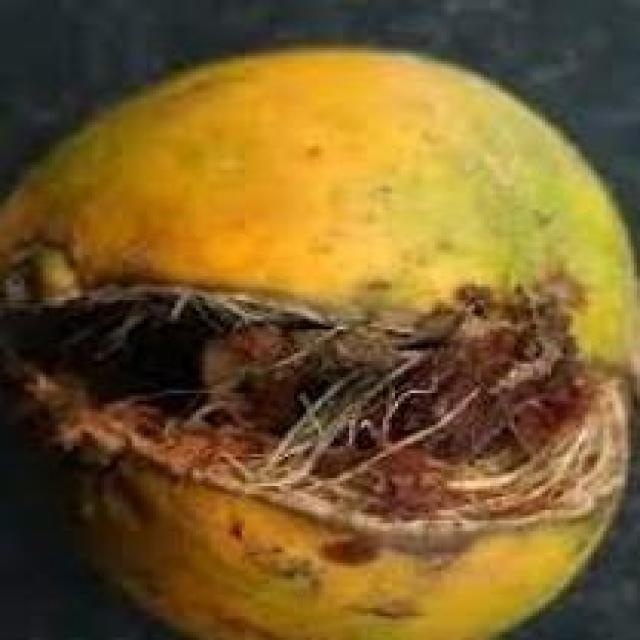damaged: (0, 45, 637, 637)
